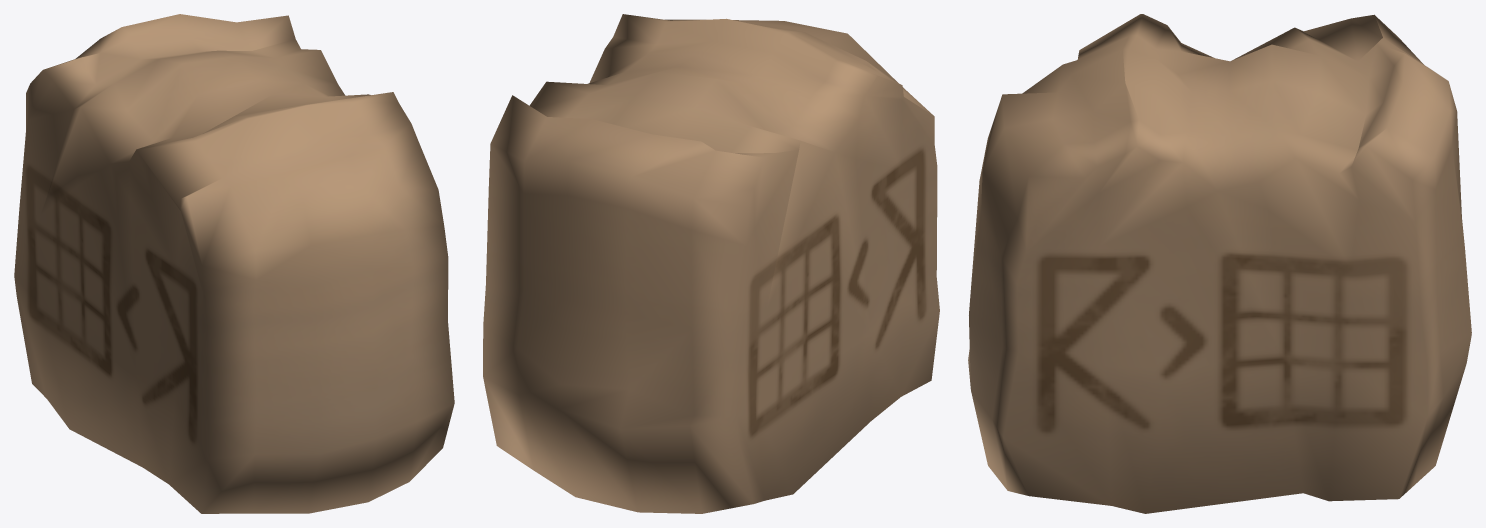
File: InstructionalRJeroglyph.fbx
3 renders of one model, left to right at view 1: azimuth 30°, elevation 25°; view 2: azimuth 150°, elevation 25°; view 3: azimuth 270°, elevation 25°, orthographic. The views are drawn at different scales.
Parts seen in each view (by area): view 1: Cube; view 2: Cube; view 3: Cube.
Boxes of the visible parts, x1,y1,x2,y2 form: Cube: [14, 14, 454, 513]; Cube: [483, 14, 939, 513]; Cube: [968, 14, 1471, 513].
Size of the model in its own units: 238 by 324 by 375.
1 material, 1 textured.
